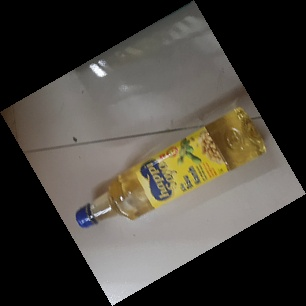Happy Soya: (74, 106, 268, 230)
